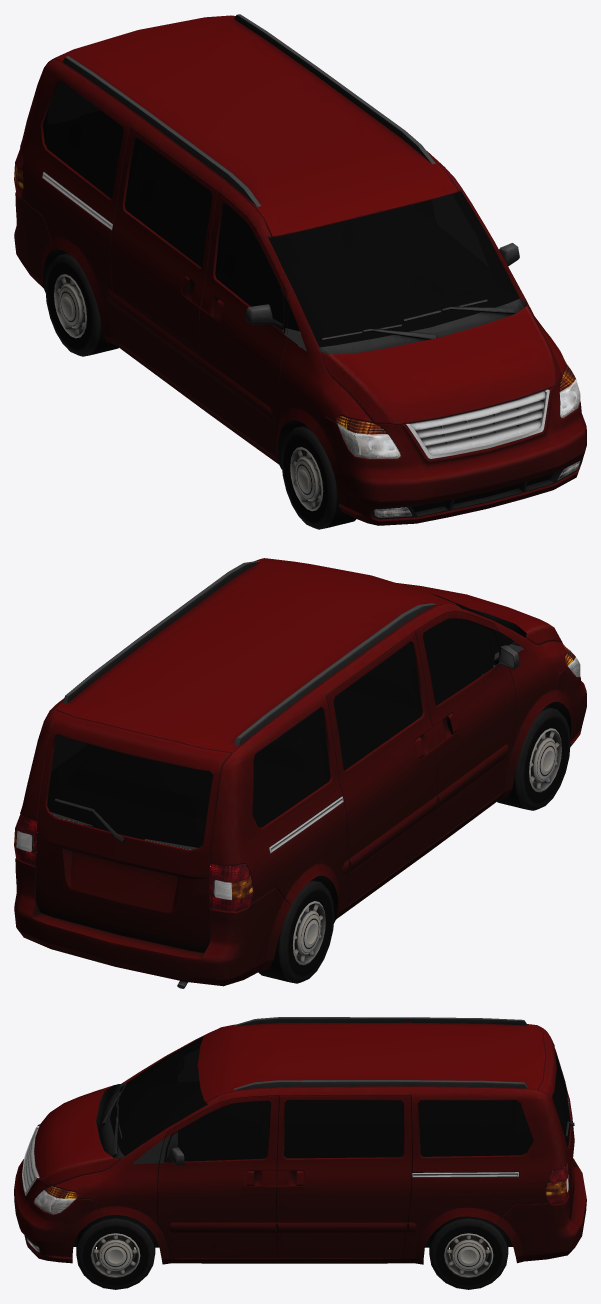
Rendered from minivan.glb.
The picture shows the model from 3 angles, top to bottom: view 1: azimuth 30°, elevation 25°; view 2: azimuth 150°, elevation 25°; view 3: azimuth 270°, elevation 25°; orthographic projection. The views are drawn at different scales.
Parts seen in each view (by area): view 1: minivan body_Body_0, minivan body_Glass_0, Wheel_D002_Wheel_0, Wheel_D003_Wheel_0, minivan body_Optics_0; view 2: minivan body_Body_0, minivan body_Glass_0, Wheel_D003_Wheel_0, Wheel_D002_Wheel_0, minivan body_Optics_0; view 3: minivan body_Body_0, minivan body_Glass_0, Wheel_D_Wheel_0, Wheel_D001_Wheel_0, minivan body_Optics_0.
Boxes of the visible parts, bbox=[...] form: minivan body_Body_0: bbox=[14, 14, 586, 525]; minivan body_Glass_0: bbox=[43, 81, 519, 351]; Wheel_D002_Wheel_0: bbox=[281, 425, 356, 529]; Wheel_D003_Wheel_0: bbox=[45, 253, 118, 356]; minivan body_Optics_0: bbox=[14, 148, 580, 516]; minivan body_Body_0: bbox=[14, 558, 586, 988]; minivan body_Glass_0: bbox=[47, 593, 523, 849]; Wheel_D003_Wheel_0: bbox=[258, 880, 334, 983]; Wheel_D002_Wheel_0: bbox=[497, 706, 570, 810]; minivan body_Optics_0: bbox=[14, 644, 580, 911]; minivan body_Body_0: bbox=[14, 1017, 586, 1264]; minivan body_Glass_0: bbox=[110, 1036, 570, 1161]; Wheel_D_Wheel_0: bbox=[76, 1215, 155, 1289]; Wheel_D001_Wheel_0: bbox=[429, 1216, 508, 1289]; minivan body_Optics_0: bbox=[26, 1162, 568, 1251].
Size of the model in its own units: 1.87 by 1.76 by 4.61.
4 materials, 3 textured.
